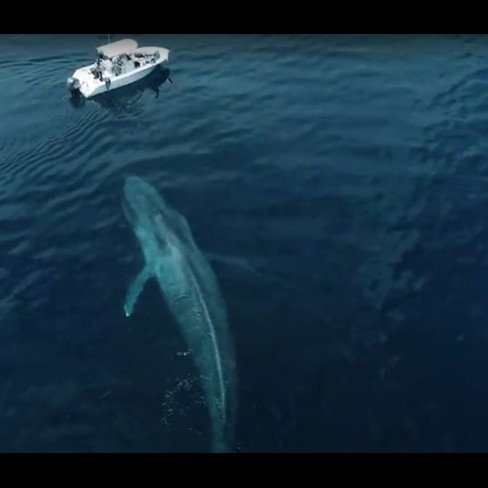bluewhale: (114, 173, 268, 454)
